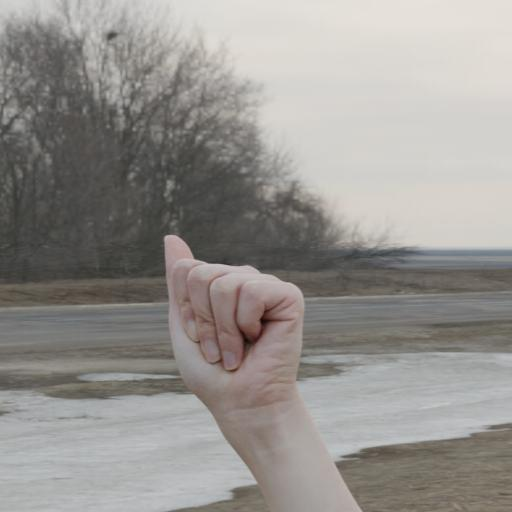A: (134, 220, 340, 442)
